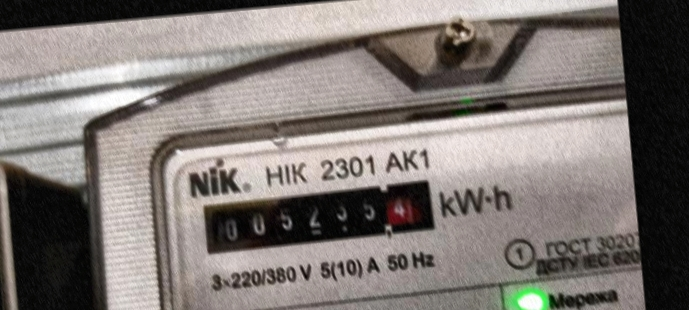0: (221, 215, 238, 241), (249, 210, 266, 236)
2: (303, 201, 322, 229)
3: (330, 196, 349, 222)
4: (388, 191, 408, 221)
5: (358, 192, 376, 222), (277, 205, 293, 231)
screen: (188, 169, 443, 263)
